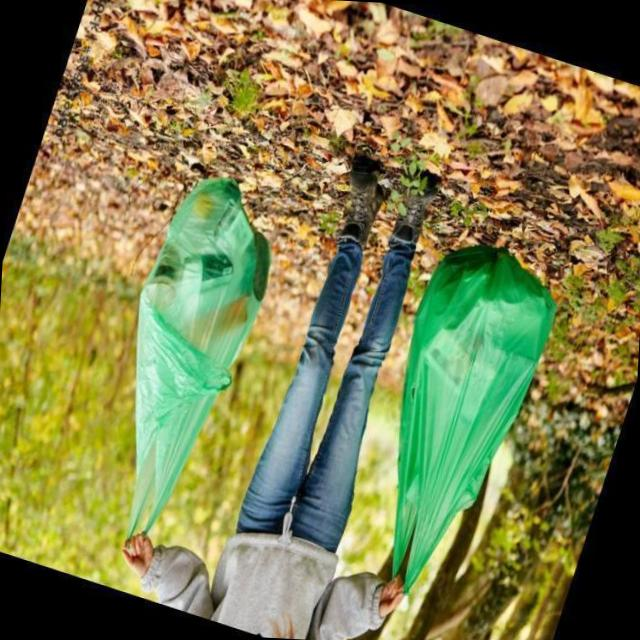KantongPlastik: (375, 216, 566, 594), (109, 158, 283, 546)
